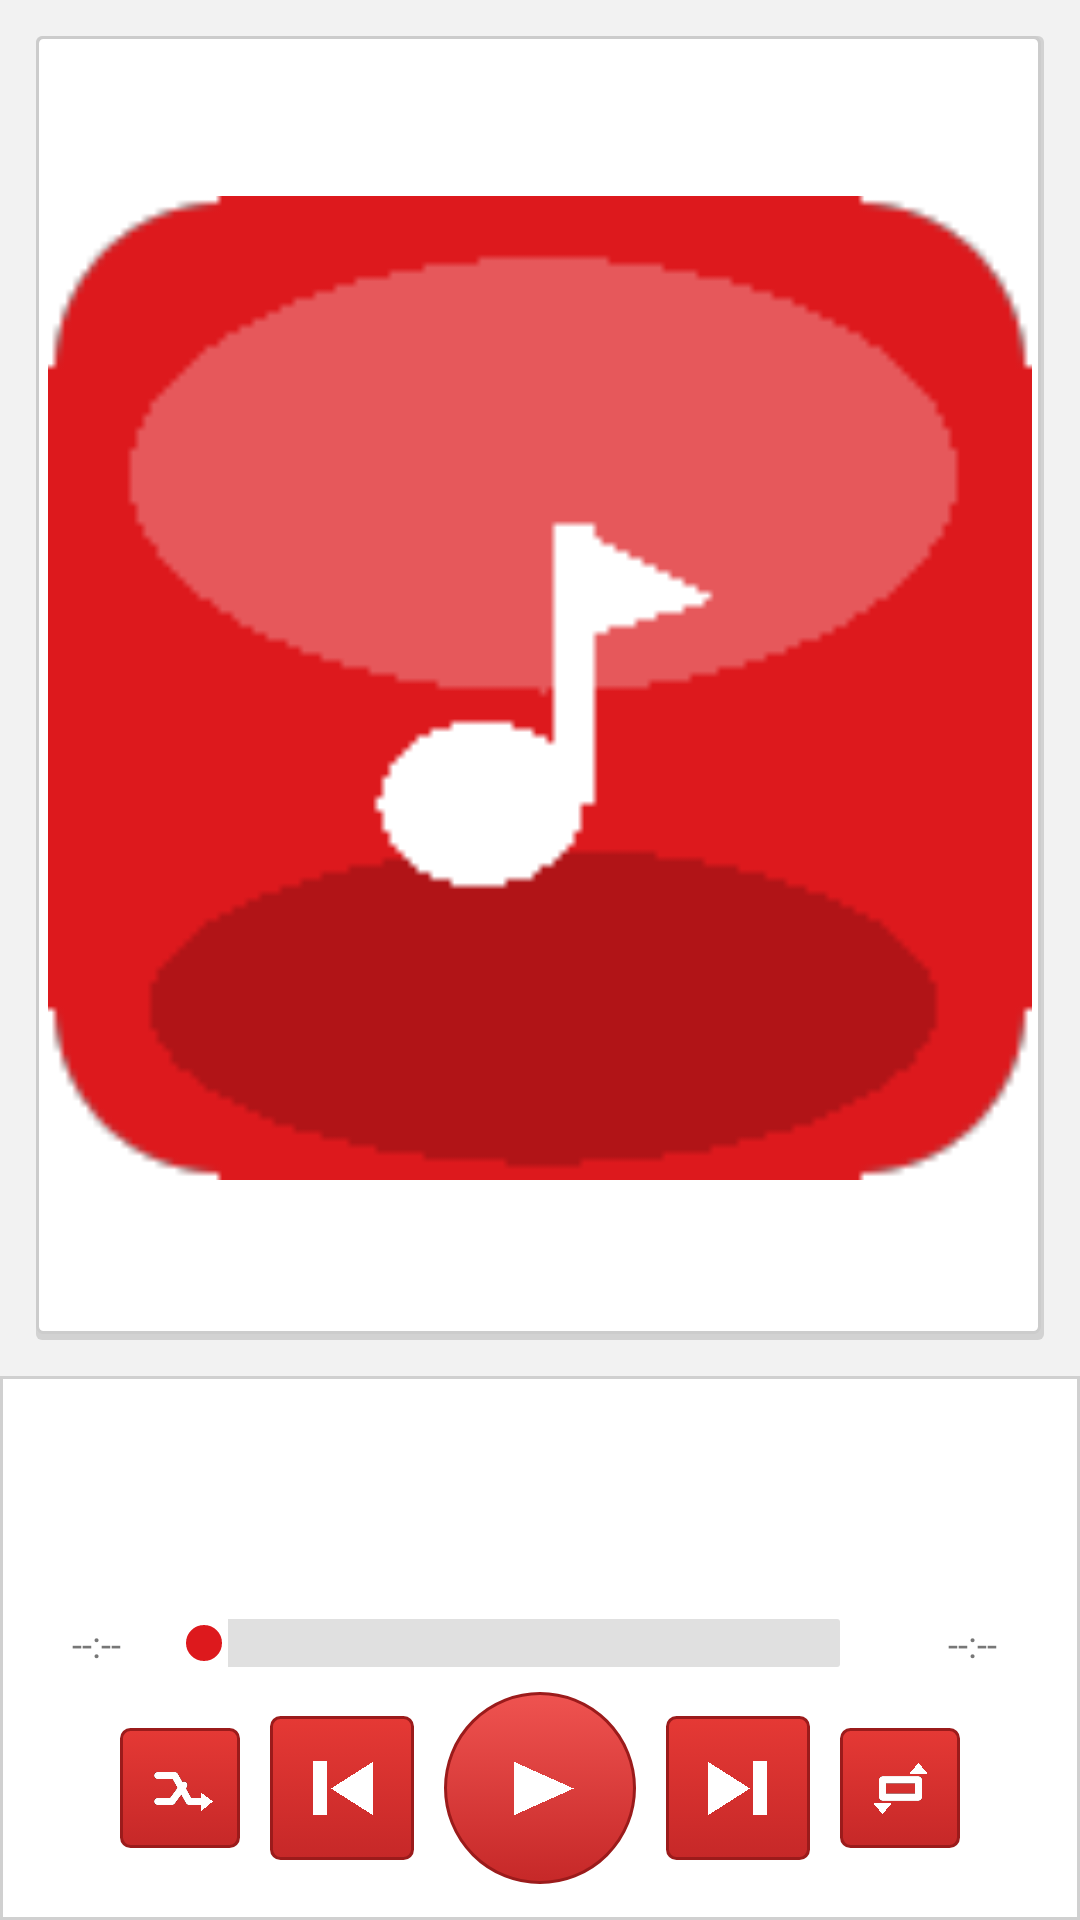

Icon click points for this 1080w x 1920h phone screenshot, format [x,y]:
Next: [738,1788]
Play: [540,1788]
Previous: [342,1788]
Repeat: [900,1788]
Shuffle: [180,1788]
